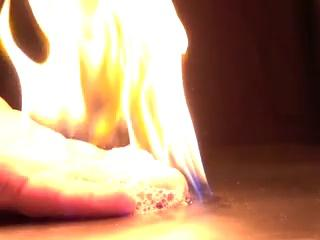Fire: (16, 1, 208, 202)
